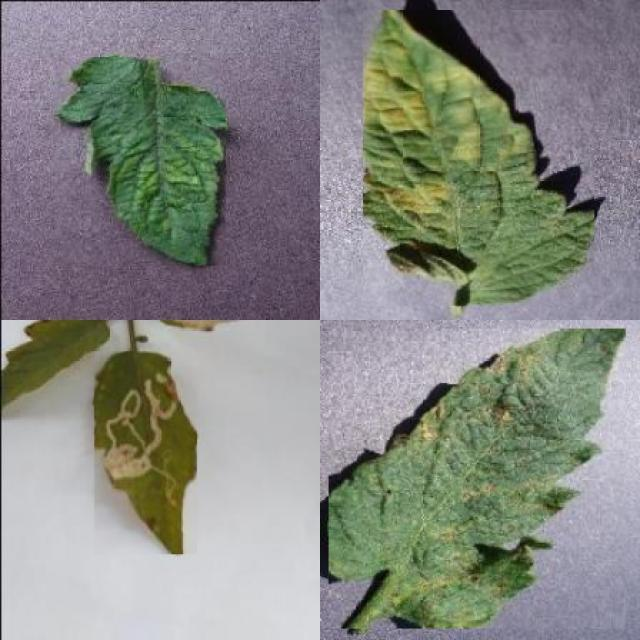Leaf Miner: (95, 352, 198, 554)
Leaf Mold: (362, 10, 594, 306)
Mosaic Virus: (51, 57, 226, 266)
Septoria: (329, 328, 625, 628)
